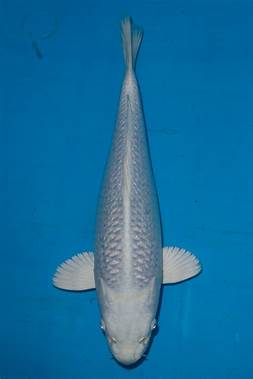white: (51, 16, 202, 366)
